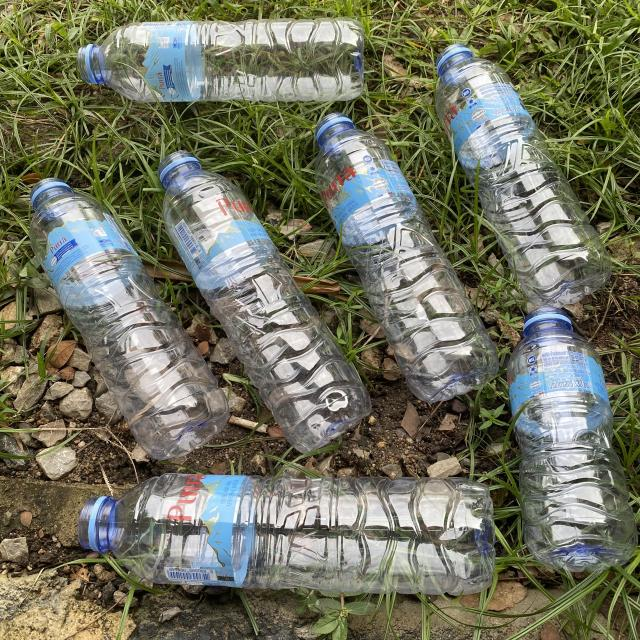plastik: (159, 151, 370, 450), (30, 179, 229, 459), (315, 112, 499, 402), (78, 474, 495, 595), (436, 44, 611, 308), (508, 308, 636, 570), (78, 18, 364, 102)
